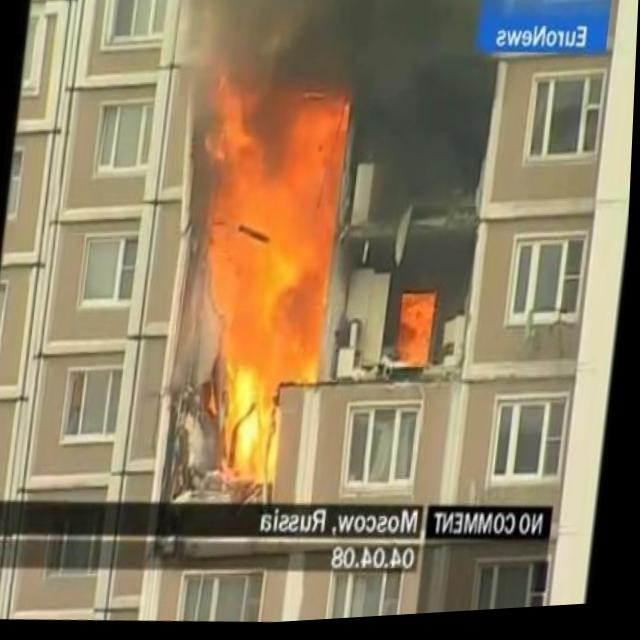fire: (167, 76, 352, 488), (395, 293, 438, 374)
